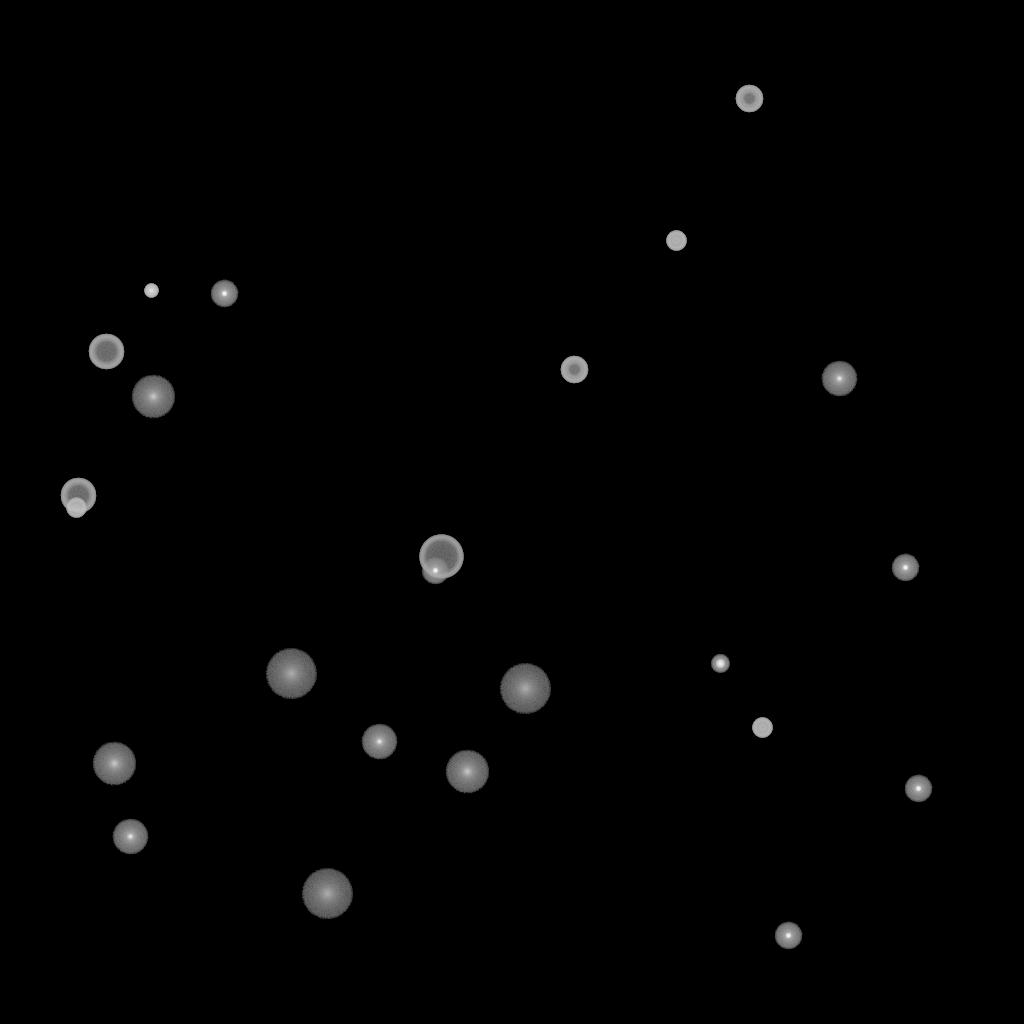depth:-10: (891, 554, 919, 582), (774, 922, 802, 950), (904, 775, 932, 803), (210, 280, 238, 308), (421, 557, 449, 585)
depth:-20: (711, 655, 729, 673)
depth:-30: (144, 284, 158, 298)
depth:-40: (752, 718, 772, 738), (66, 498, 86, 518), (666, 231, 686, 251)
depth:-50: (735, 85, 763, 113), (560, 356, 588, 384)
depth:-60: (88, 334, 124, 370), (60, 478, 96, 514)
depth:-70: (419, 535, 463, 579)
depth:0: (361, 724, 397, 760), (821, 361, 857, 397), (112, 819, 148, 855)
depth:10: (445, 750, 489, 794), (131, 375, 175, 419), (92, 742, 136, 786)
depth:20: (499, 664, 551, 714), (265, 649, 317, 699), (301, 869, 353, 919)
